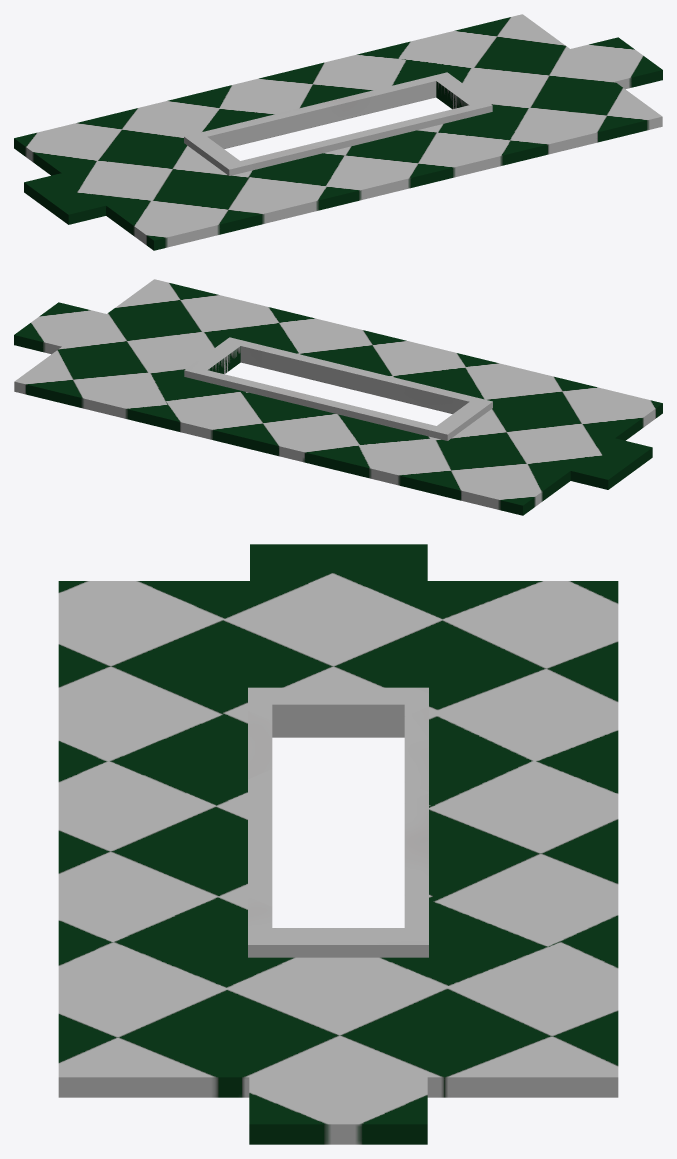
The model's file is Floor.fbx.
The picture shows the model from 3 angles, top to bottom: view 1: azimuth 30°, elevation 25°; view 2: azimuth 150°, elevation 25°; view 3: azimuth 270°, elevation 25°; orthographic projection. The views are drawn at different scales.
Visible parts, largest first — view 1: Floor; view 2: Floor; view 3: Floor.
Boxes of the visible parts, x1,y1,x2,y2 form: Floor: (14,14,662,250); Floor: (14,279,662,515); Floor: (58,544,618,1144).
Bounding box in the file's own units: 1783 × 47.52 × 727.
Materials: 1 (1 with a texture image).
